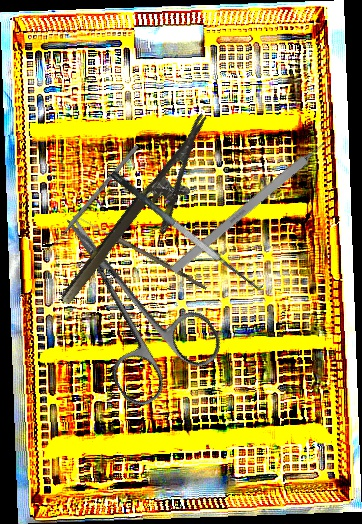Hook Surgical: (169, 129, 340, 275)
Iris Scissors: (25, 184, 230, 413)
Needle Holder: (58, 112, 237, 324)
Pusher: (46, 144, 140, 253)
Spatula Surgical: (108, 157, 270, 299)
Surgical Spoon: (72, 212, 209, 291)
